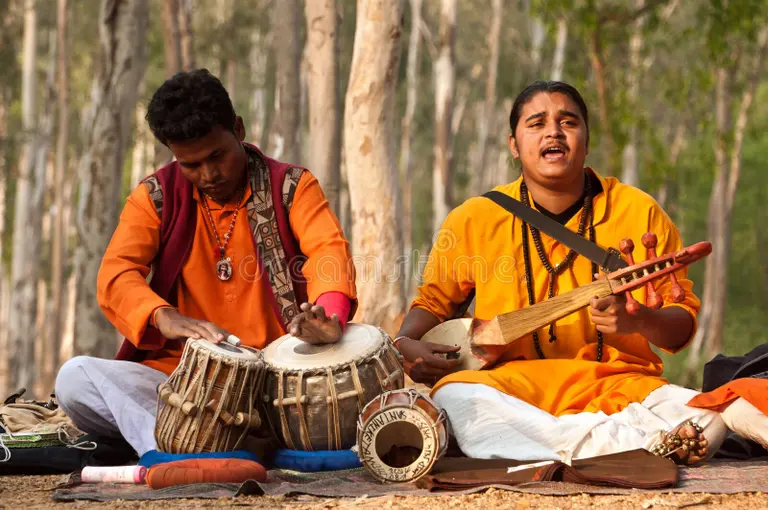tabla: (263, 322, 400, 447), (159, 338, 259, 456)
